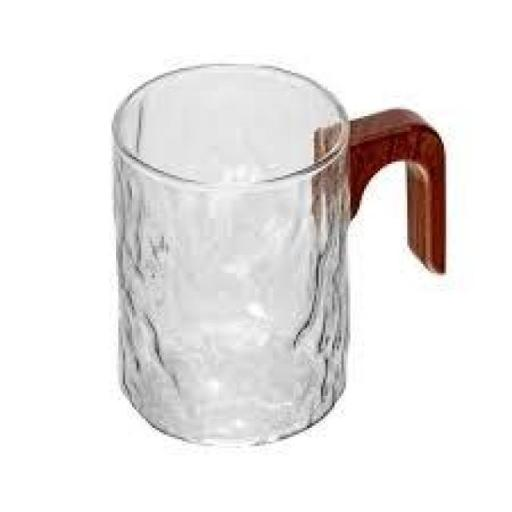glass: (83, 48, 365, 462)
